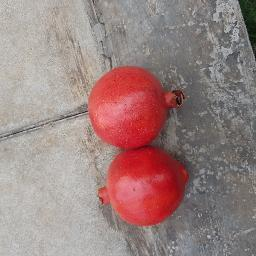Good_pomegranate: (91, 60, 190, 147), (92, 148, 192, 229)
